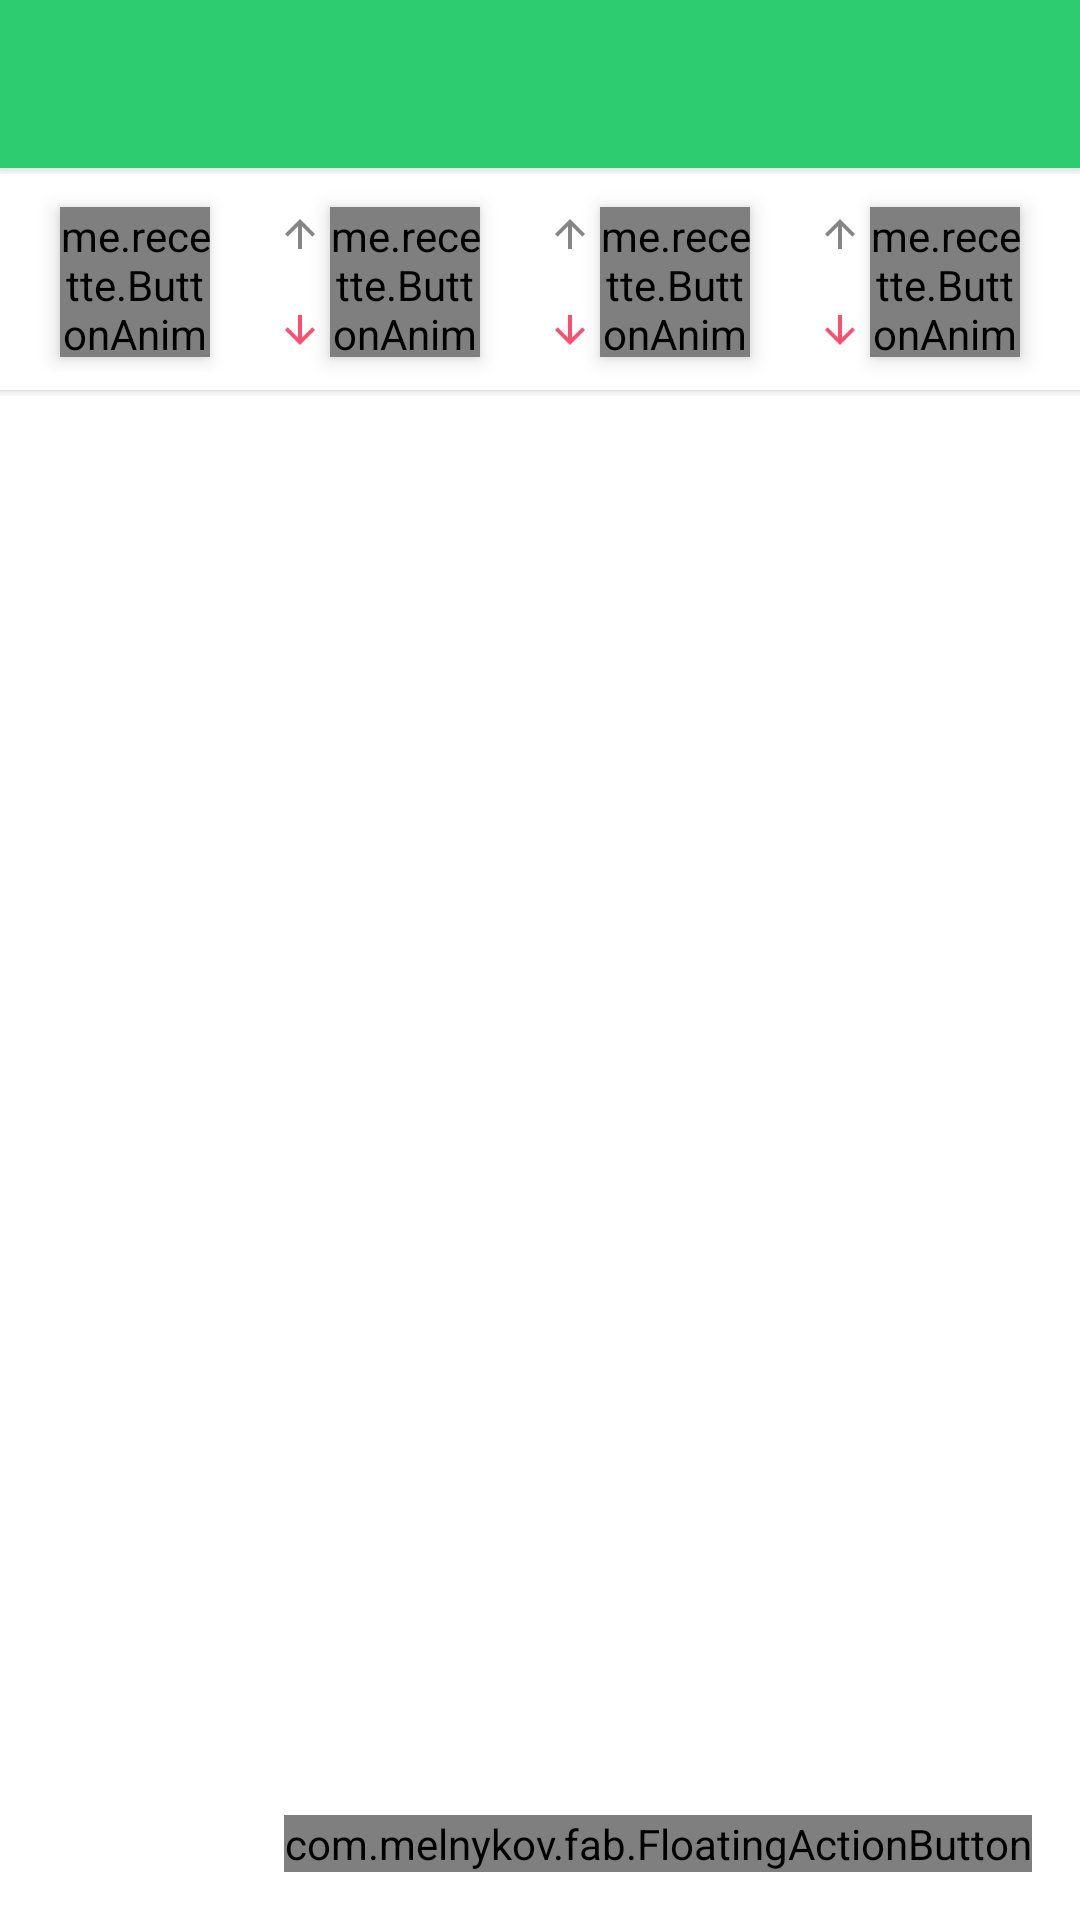

Where to tap for icons on this 1080 x 1920 app screen, as (x,y):
downward arrow: (300,330), (570,330), (840,330)
upward arrow: (300,234), (570,234), (840,234)
